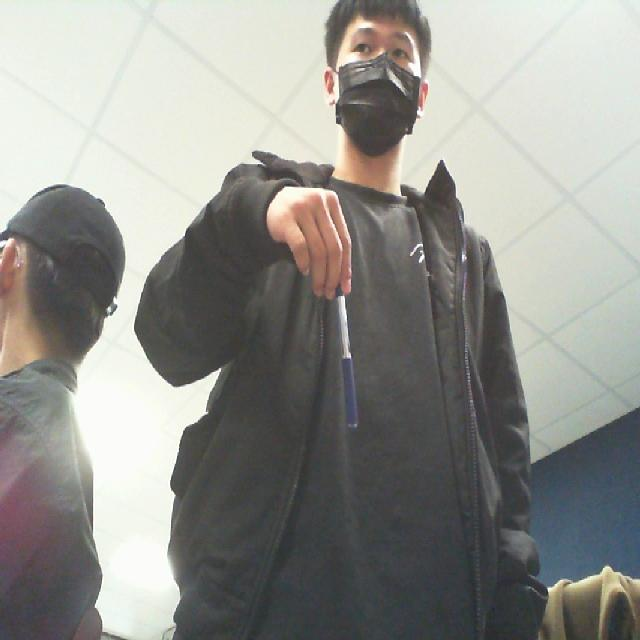Pen: (327, 267, 374, 455)
